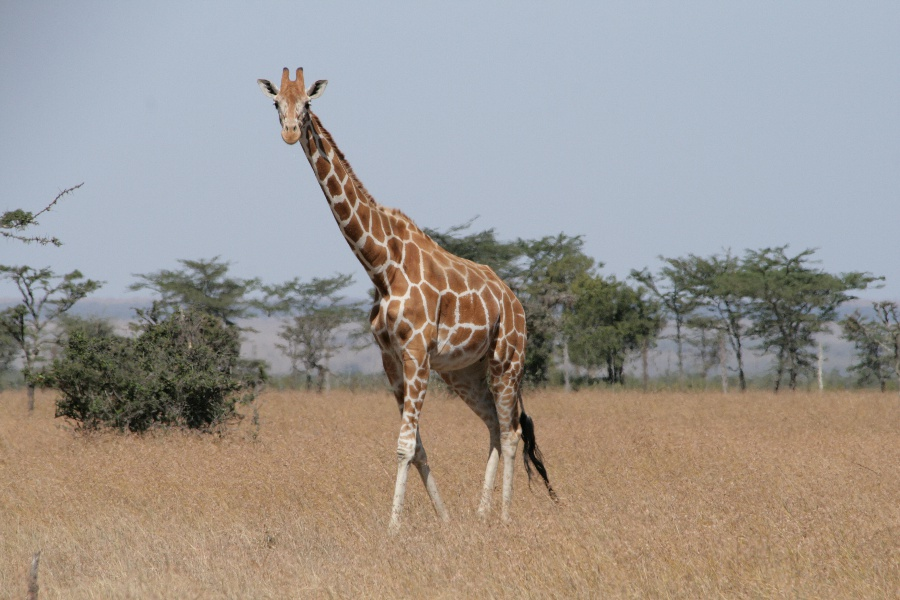giraffe: (249, 56, 559, 542)
